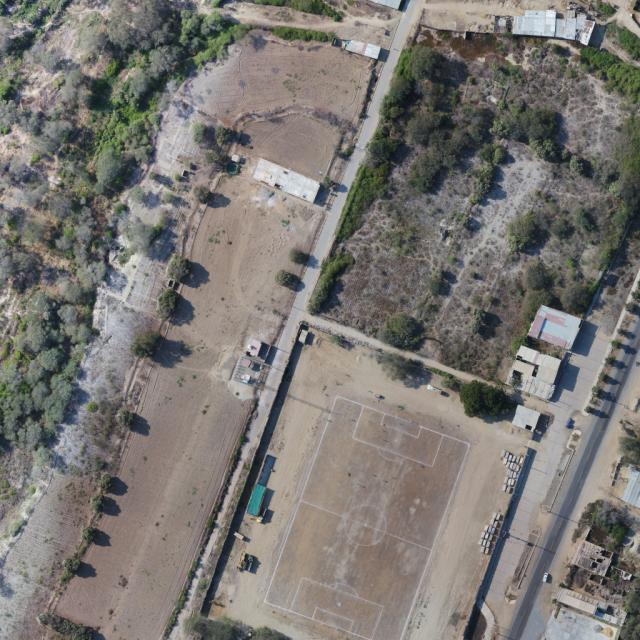building: (543, 586, 630, 640), (504, 344, 566, 402), (511, 3, 596, 45), (251, 157, 322, 204), (528, 302, 584, 352), (231, 337, 279, 391), (571, 538, 615, 578), (512, 9, 556, 36), (512, 405, 542, 433), (344, 38, 382, 60), (245, 482, 268, 517)
dryland: (0, 97, 276, 585), (468, 324, 613, 608), (439, 140, 600, 332), (549, 69, 633, 161), (584, 214, 640, 335), (576, 405, 638, 512), (421, 0, 566, 32)
greenland: (305, 6, 640, 408), (517, 39, 587, 114), (571, 36, 640, 108), (375, 306, 428, 359), (585, 496, 635, 551), (458, 376, 513, 418), (603, 17, 640, 62), (270, 24, 334, 48), (381, 352, 415, 380)
metalled_road: (233, 0, 425, 462)
unmetalled_road: (296, 307, 403, 361), (400, 347, 477, 386)
